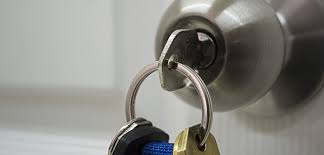keys: (110, 27, 223, 155)
